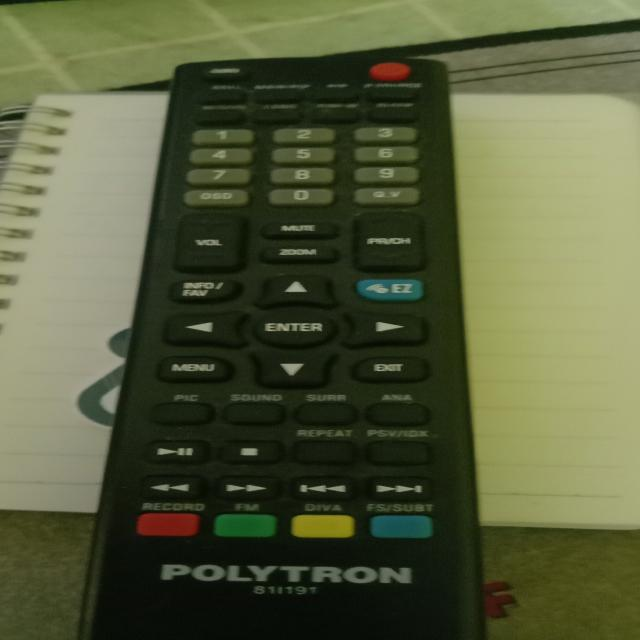remote: (62, 49, 479, 640)
